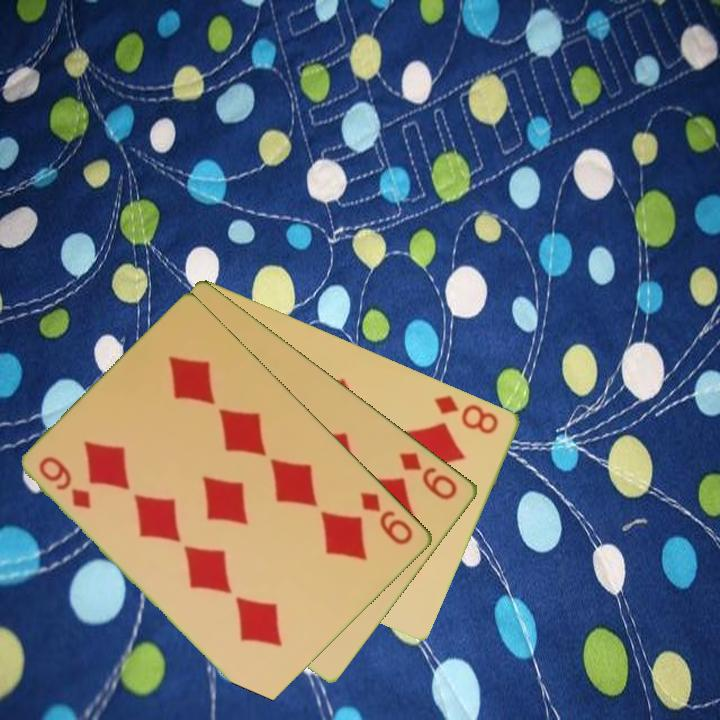8d: (431, 391, 502, 437)
9d: (357, 488, 417, 548), (396, 448, 461, 503), (35, 453, 95, 512)
